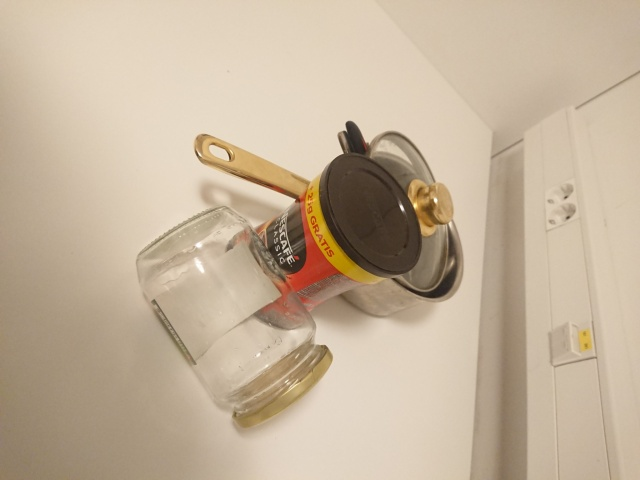Nescafe Classic 225g: (221, 149, 426, 334)
